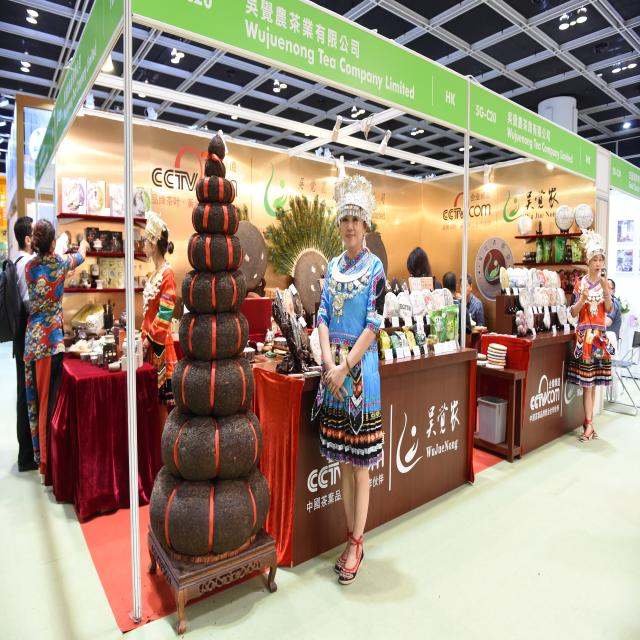body: (308, 172, 388, 589), (21, 218, 91, 487), (11, 215, 73, 474), (568, 224, 616, 444), (137, 210, 180, 417), (442, 272, 472, 346), (405, 246, 443, 291), (456, 272, 485, 326), (604, 278, 622, 342)
